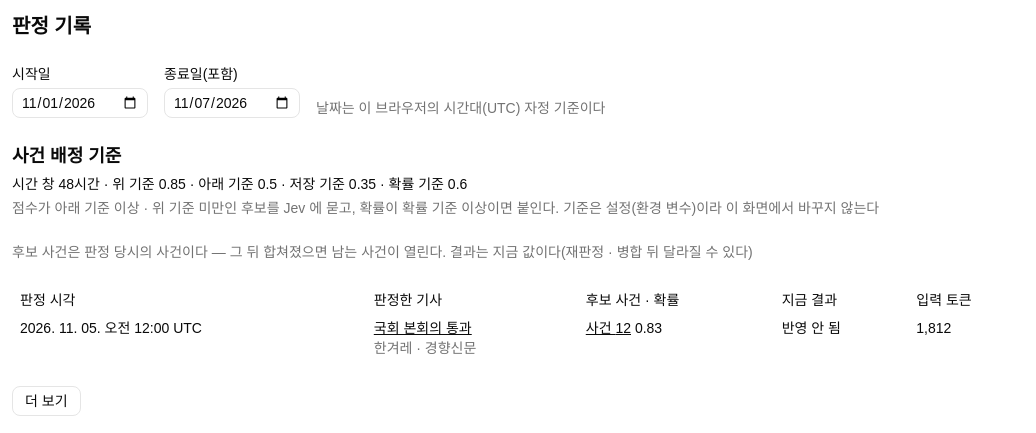
Test: EventJudgementsPage › 더 보기가 받은 커서로 다음 쪽을 이어 받는다
Expected: the table named "판정 기록" is shown, top-left (12, 286), bottom-right (1035, 362)
Click the button "더 보기": (46, 401) top-left (12, 386), bottom-right (80, 416)
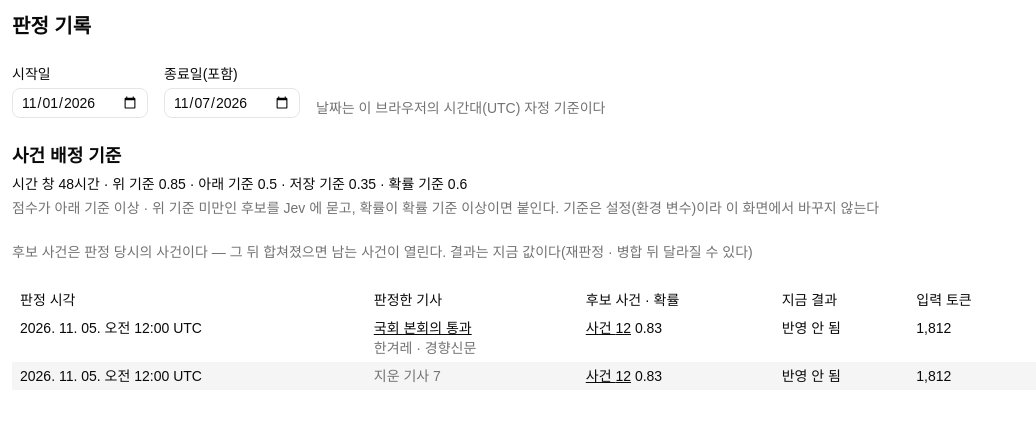
Expected: the text "지운 기사 7" is shown, top-left (374, 368), bottom-right (441, 384)
